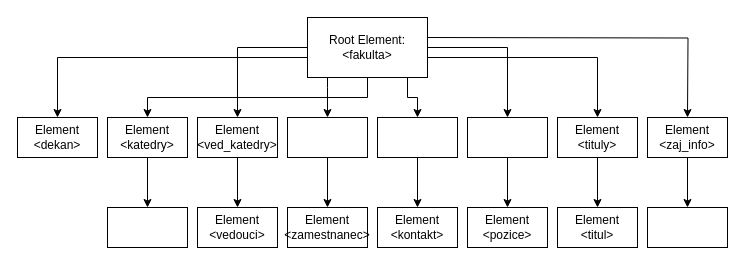
Image size: 745x265. Some labels were removed from this diagram. Each missing label, with the centre of its shape:
Element <info>: the point at 687,227
Element <katedra>: the point at 147,227
Element <zam_kontakt>: the point at 417,137
Element <zam_pozice>: the point at 507,137
Element <zamestnanci>: the point at 327,137
